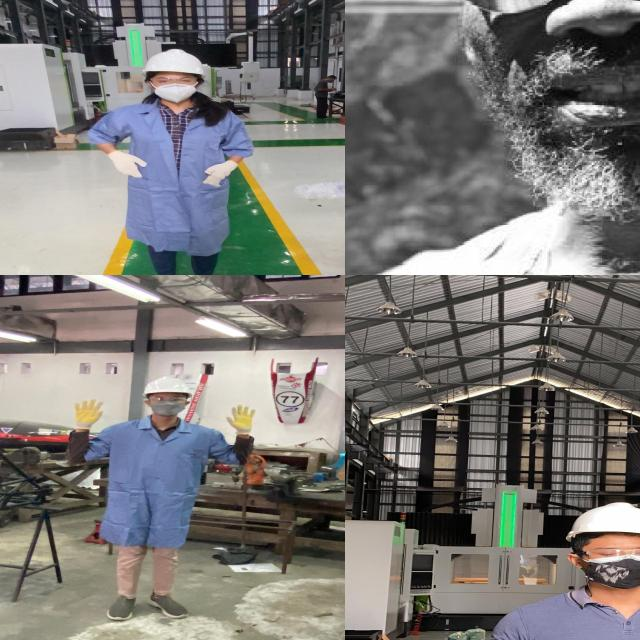face_mask: (574, 542, 640, 587), (150, 75, 202, 103), (143, 392, 189, 417)
face_nomask: (458, 0, 640, 149)
glasses: (565, 547, 640, 563), (144, 72, 200, 86), (142, 393, 192, 404)
hand_glove: (104, 150, 154, 183), (424, 624, 521, 640), (69, 396, 106, 431), (198, 159, 241, 187), (221, 404, 262, 433)
head_helmet: (557, 497, 640, 542), (138, 47, 207, 76), (138, 376, 196, 398)
person: (55, 374, 272, 628), (82, 45, 280, 275), (406, 494, 640, 640)
shoes: (145, 590, 194, 620), (102, 590, 140, 622)
